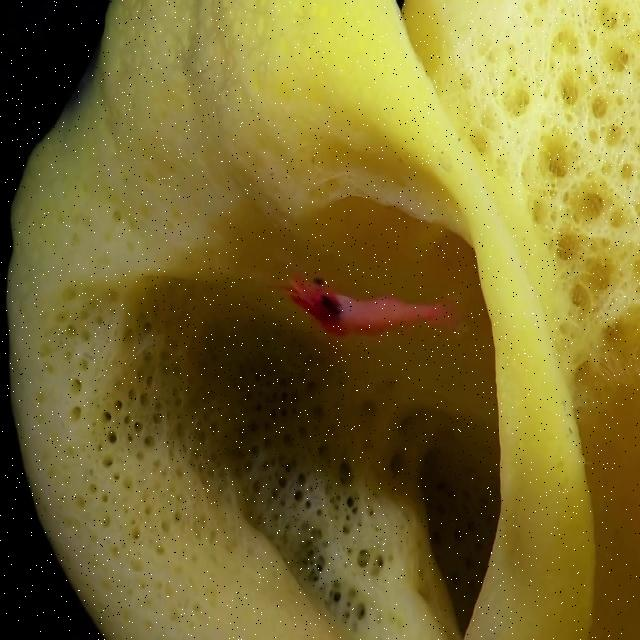fish: (261, 271, 468, 340)
reefs: (6, 0, 639, 639)
